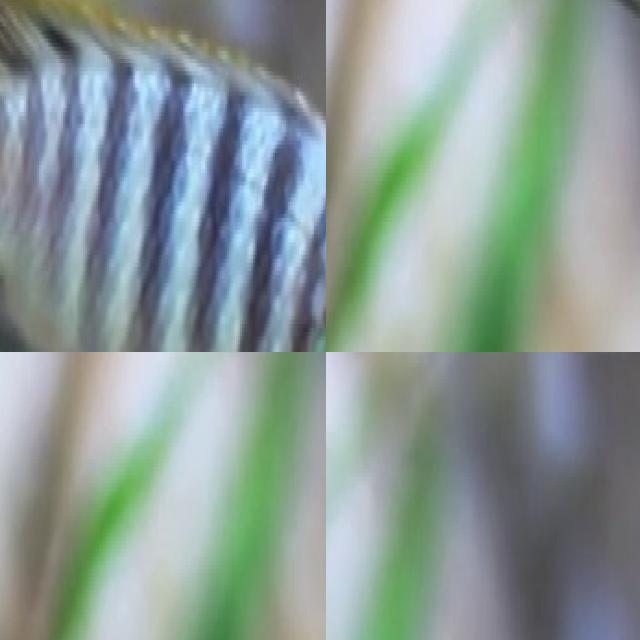fish: (0, 0, 326, 352), (370, 0, 640, 181)
